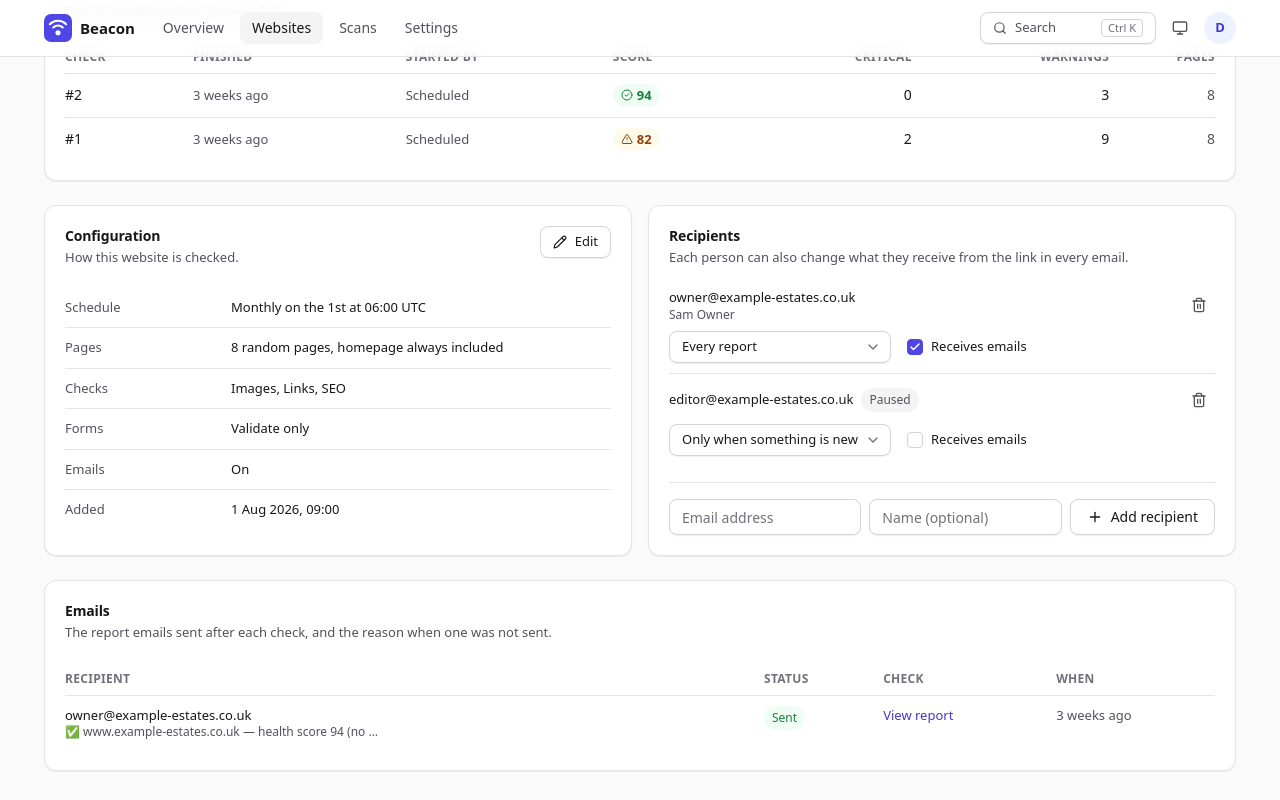
Test: recipients › removes a recipient
The width and height of the screenshot is (1280, 800).
(page scrolled)
Step 1. Click the button named "Remove editor@example-estates.co.uk" → [1199, 400], box [1183,384,1215,416]
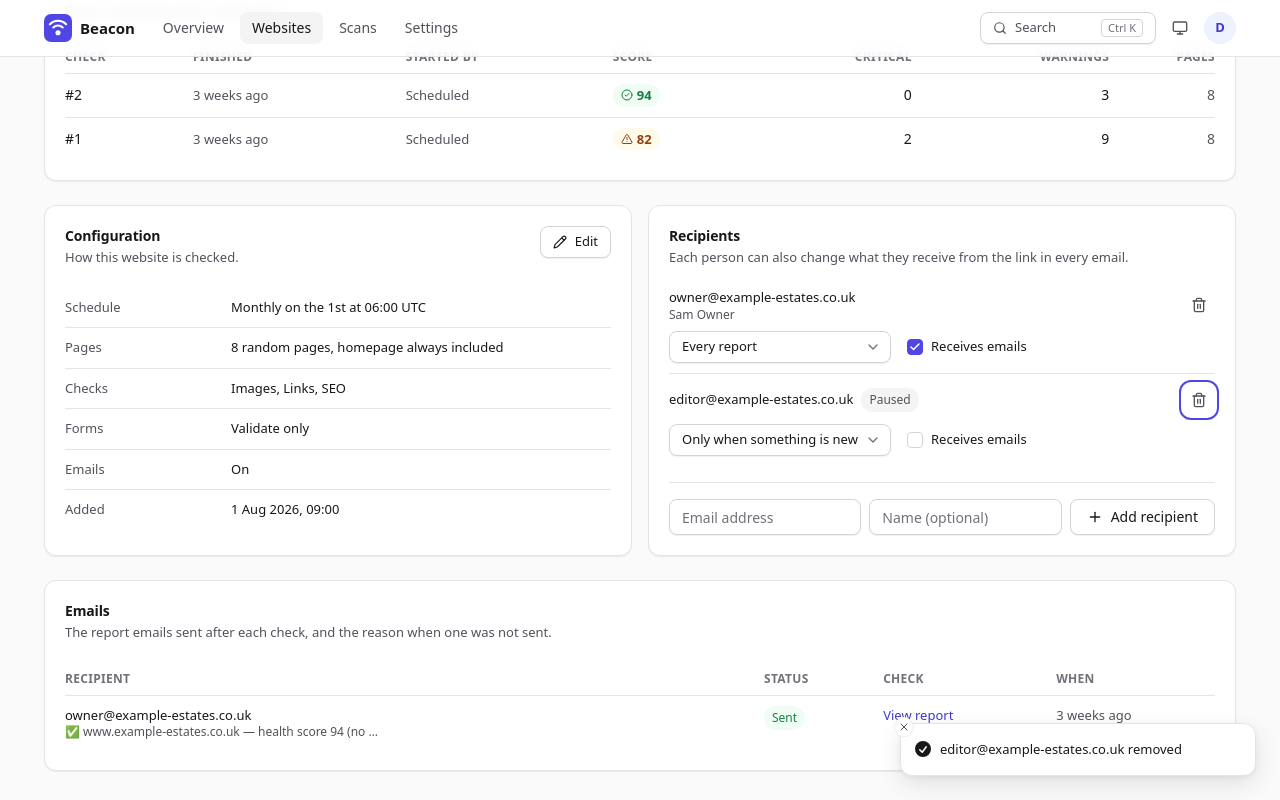
expect the text "editor@example-estates.co.uk removed" is shown: met, box [940,740,1182,759]
